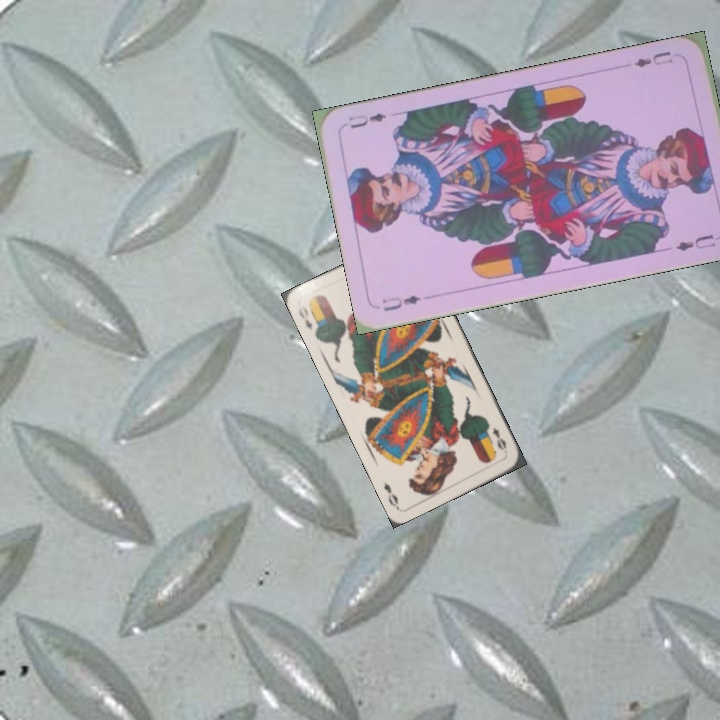EO: (294, 302, 315, 332), (488, 424, 509, 453)
EU: (629, 47, 675, 70), (378, 291, 424, 314)
